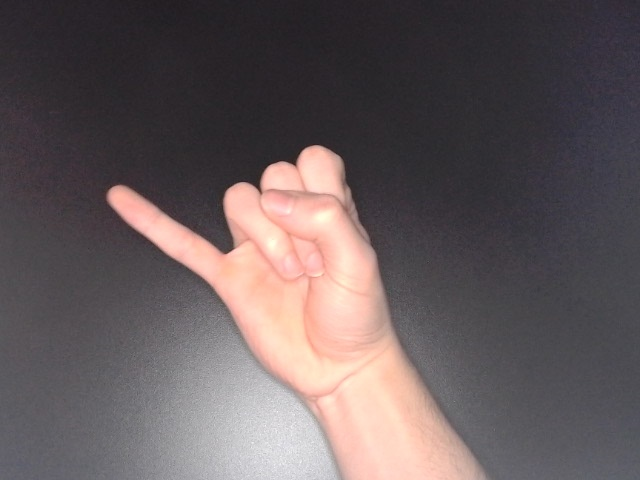j: (100, 141, 404, 418)
